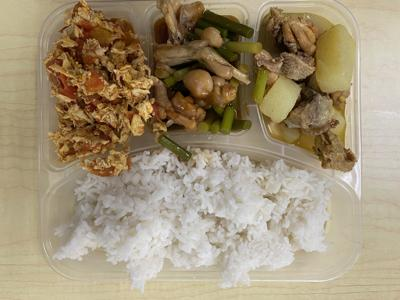jdxhs: (48, 6, 152, 167)
jrtd: (262, 3, 368, 174)
rice: (61, 147, 341, 281)
st: (155, 5, 251, 142)
